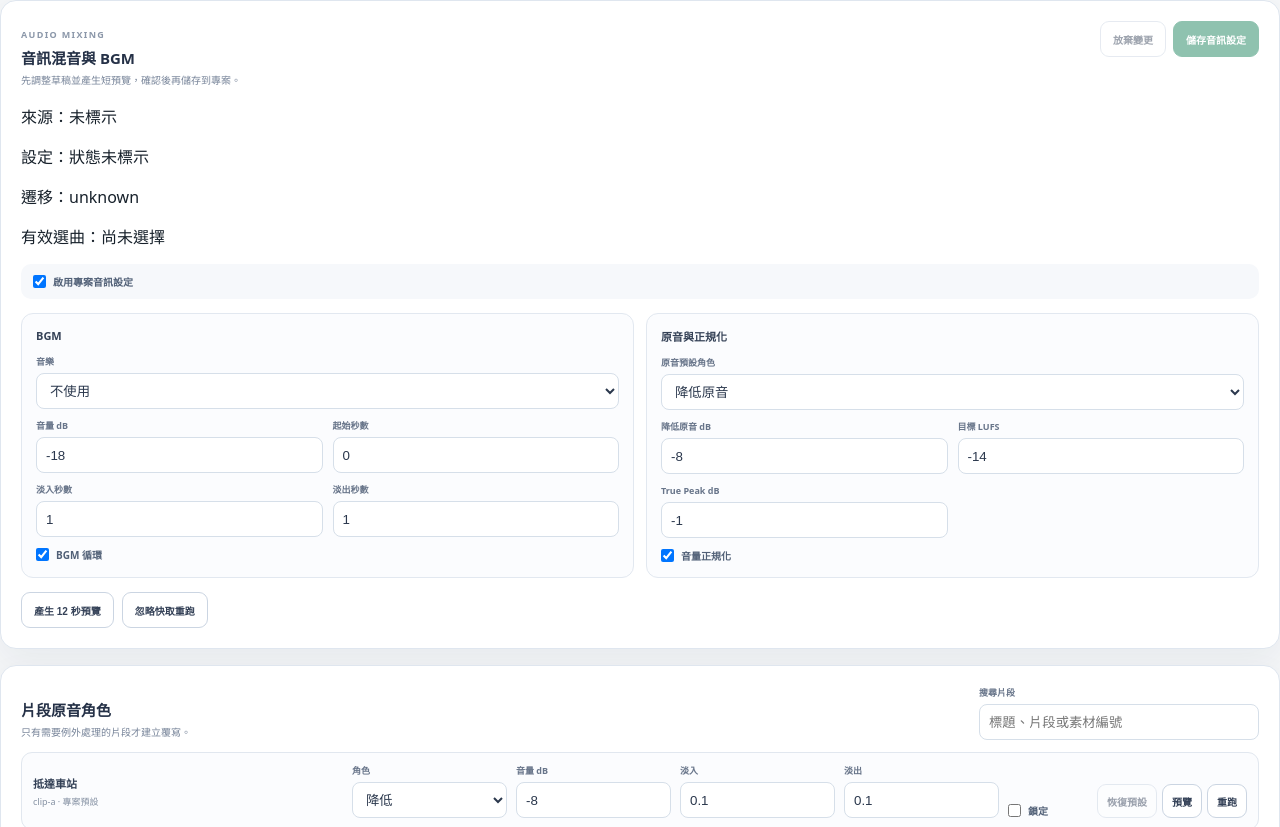
AudioMixingWorkspace › blocks saving an invalid BGM-only configuration
This screenshot has width=1280, height=827.
Select "只留 BGM" in the dropdown labelled "原音預設角色" at (952, 392), box [661, 374, 1244, 410]
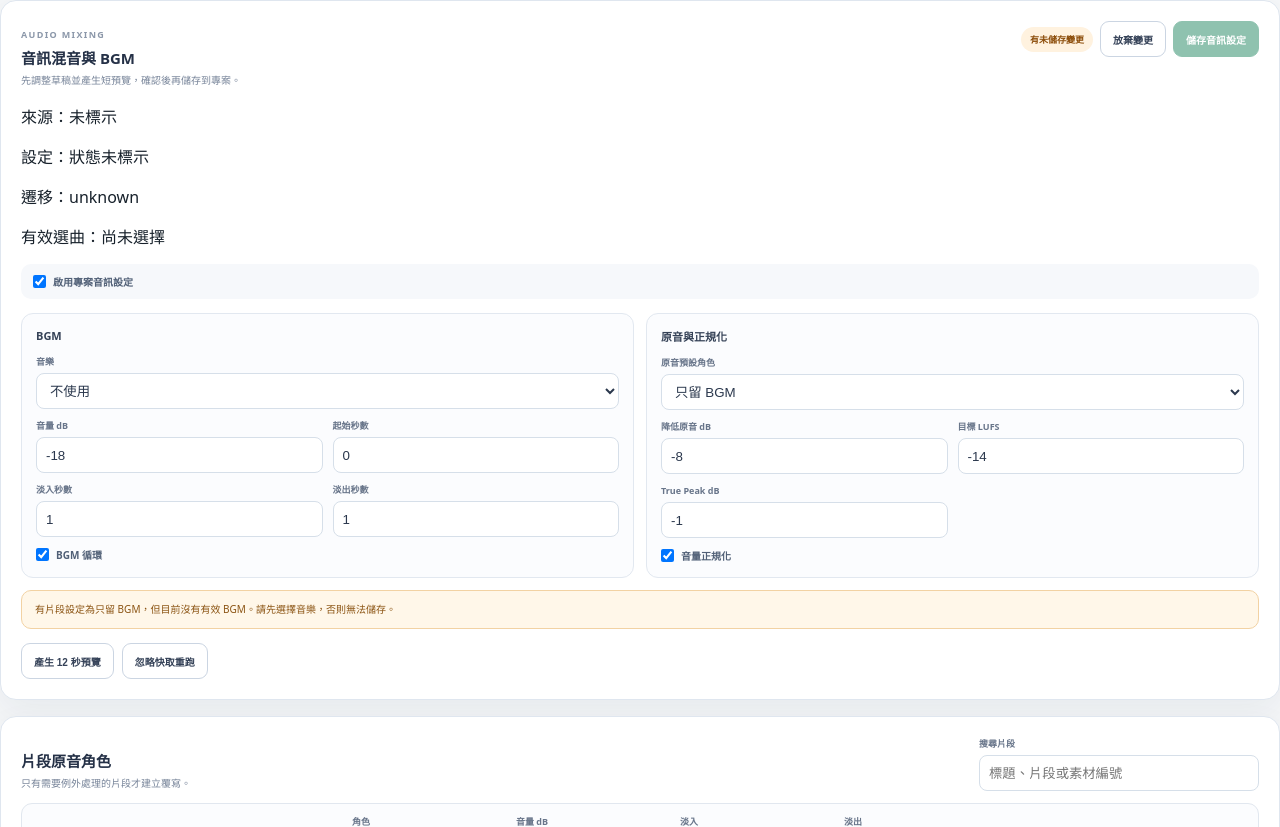
Expected: the button "儲存音訊設定" is disabled, [1173, 21, 1259, 57]
Expected: the text "有片段設定為只留 BGM，但目前沒有有效 BGM。請先選擇音樂，否則無法儲存。" is shown, [21, 590, 1259, 629]
